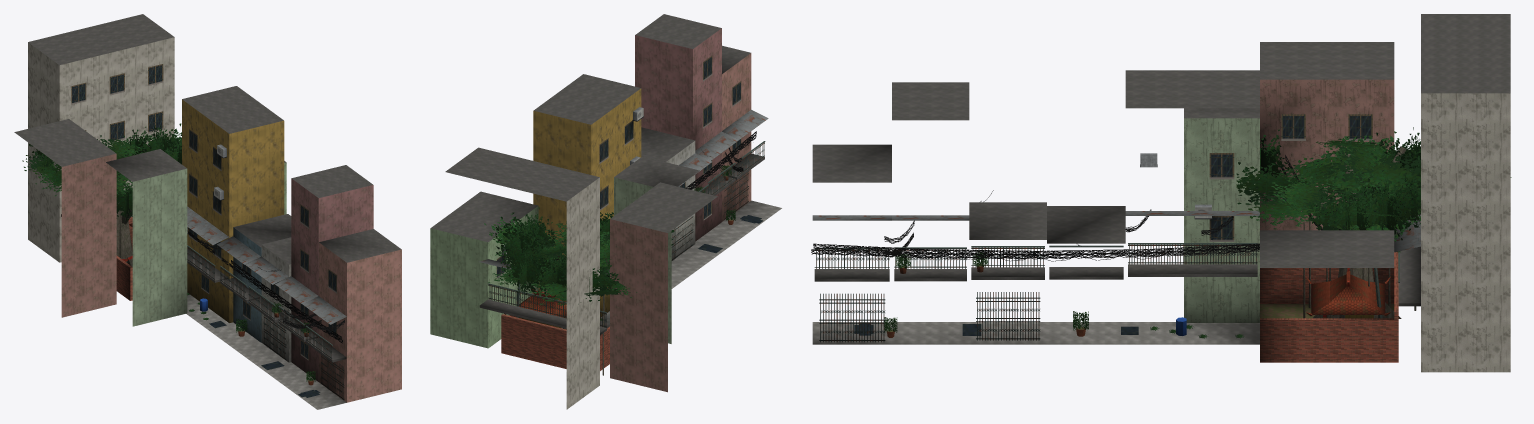
The model's file is shrine.glb.
3 views of the same model, side by side, from view 1: azimuth 30°, elevation 25°; view 2: azimuth 150°, elevation 25°; view 3: azimuth 270°, elevation 25° (orthographic). The views are drawn at different scales.
Parts seen in each view (by area): view 1: shrine_wall_pink, shrine_concrete_dark, shrine_wall_white, shrine_wall_yellow, shrine_wall_green, shrine_window_bars, shrine_concrete, shrine_leaves_clump_cut, shrine_shutter_grey, shrine_railing_cut, shrine_wall_blue, shrine_cables_cut (+4 smaller); view 2: shrine_wall_pink, shrine_concrete_dark, shrine_wall_green, shrine_wall_white, shrine_wall_yellow, shrine_leaves_clump_cut, shrine_brick, shrine_concrete, shrine_shutter_grey, shrine_railing_cut, shrine_window_bars, shrine_iron_gate_cut (+2 smaller); view 3: shrine_concrete_dark, shrine_wall_white, shrine_leaves_clump_cut, shrine_wall_green, shrine_wall_pink, shrine_concrete, shrine_brick, shrine_cables_cut, shrine_iron_gate_cut, shrine_railing_cut, shrine_window_bars, shrine_roof_tiles (+6 smaller).
Boxes of the visible parts, x1,y1,x2,y2 form: shrine_wall_pink: (61,153,401,402); shrine_concrete_dark: (14,14,401,362); shrine_wall_white: (28,37,291,362); shrine_wall_yellow: (182,99,284,322); shrine_wall_green: (132,162,286,326); shrine_window_bars: (71,64,336,360); shrine_concrete: (186,294,346,409); shrine_leaves_clump_cut: (22,120,208,320); shrine_shutter_grey: (187,206,346,324); shrine_railing_cut: (187,247,332,359); shrine_wall_blue: (233,227,261,342); shrine_cables_cut: (116,192,344,343); shrine_wall_pink: (610,28,751,392); shrine_concrete_dark: (431,14,764,335); shrine_wall_green: (430,177,671,348); shrine_wall_white: (566,141,695,409); shrine_wall_yellow: (519,88,641,328); shrine_leaves_clump_cut: (484,207,674,320); shrine_brick: (501,290,609,370); shrine_concrete: (562,200,781,328); shrine_shutter_grey: (479,109,768,288); shrine_railing_cut: (488,142,764,327); shrine_window_bars: (496,55,741,278); shrine_iron_gate_cut: (671,171,748,260); shrine_concrete_dark: (812,14,1510,306); shrine_wall_white: (1421,93,1510,372); shrine_leaves_clump_cut: (1150,127,1511,338); shrine_wall_green: (1184,118,1259,322); shrine_wall_pink: (1260,79,1394,230); shrine_concrete: (812,322,1259,344); shrine_brick: (1260,252,1398,362); shrine_cables_cut: (811,155,1357,261); shrine_iron_gate_cut: (819,292,1040,342); shrine_railing_cut: (814,244,1257,268); shrine_window_bars: (1209,114,1372,241); shrine_roof_tiles: (1306,271,1390,316).
Size of what is drawn, in the model's own units: 16.4 by 13.77 by 31.65.
Materials: 35 (35 with a texture image).
